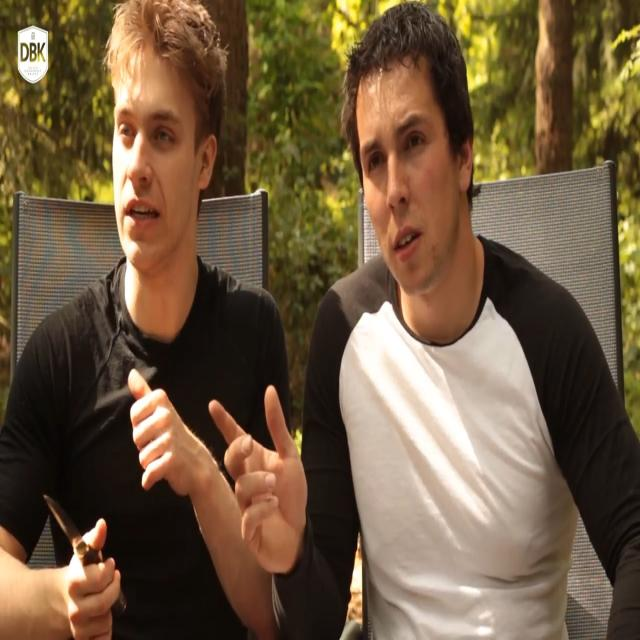knife: (44, 493, 132, 619)
